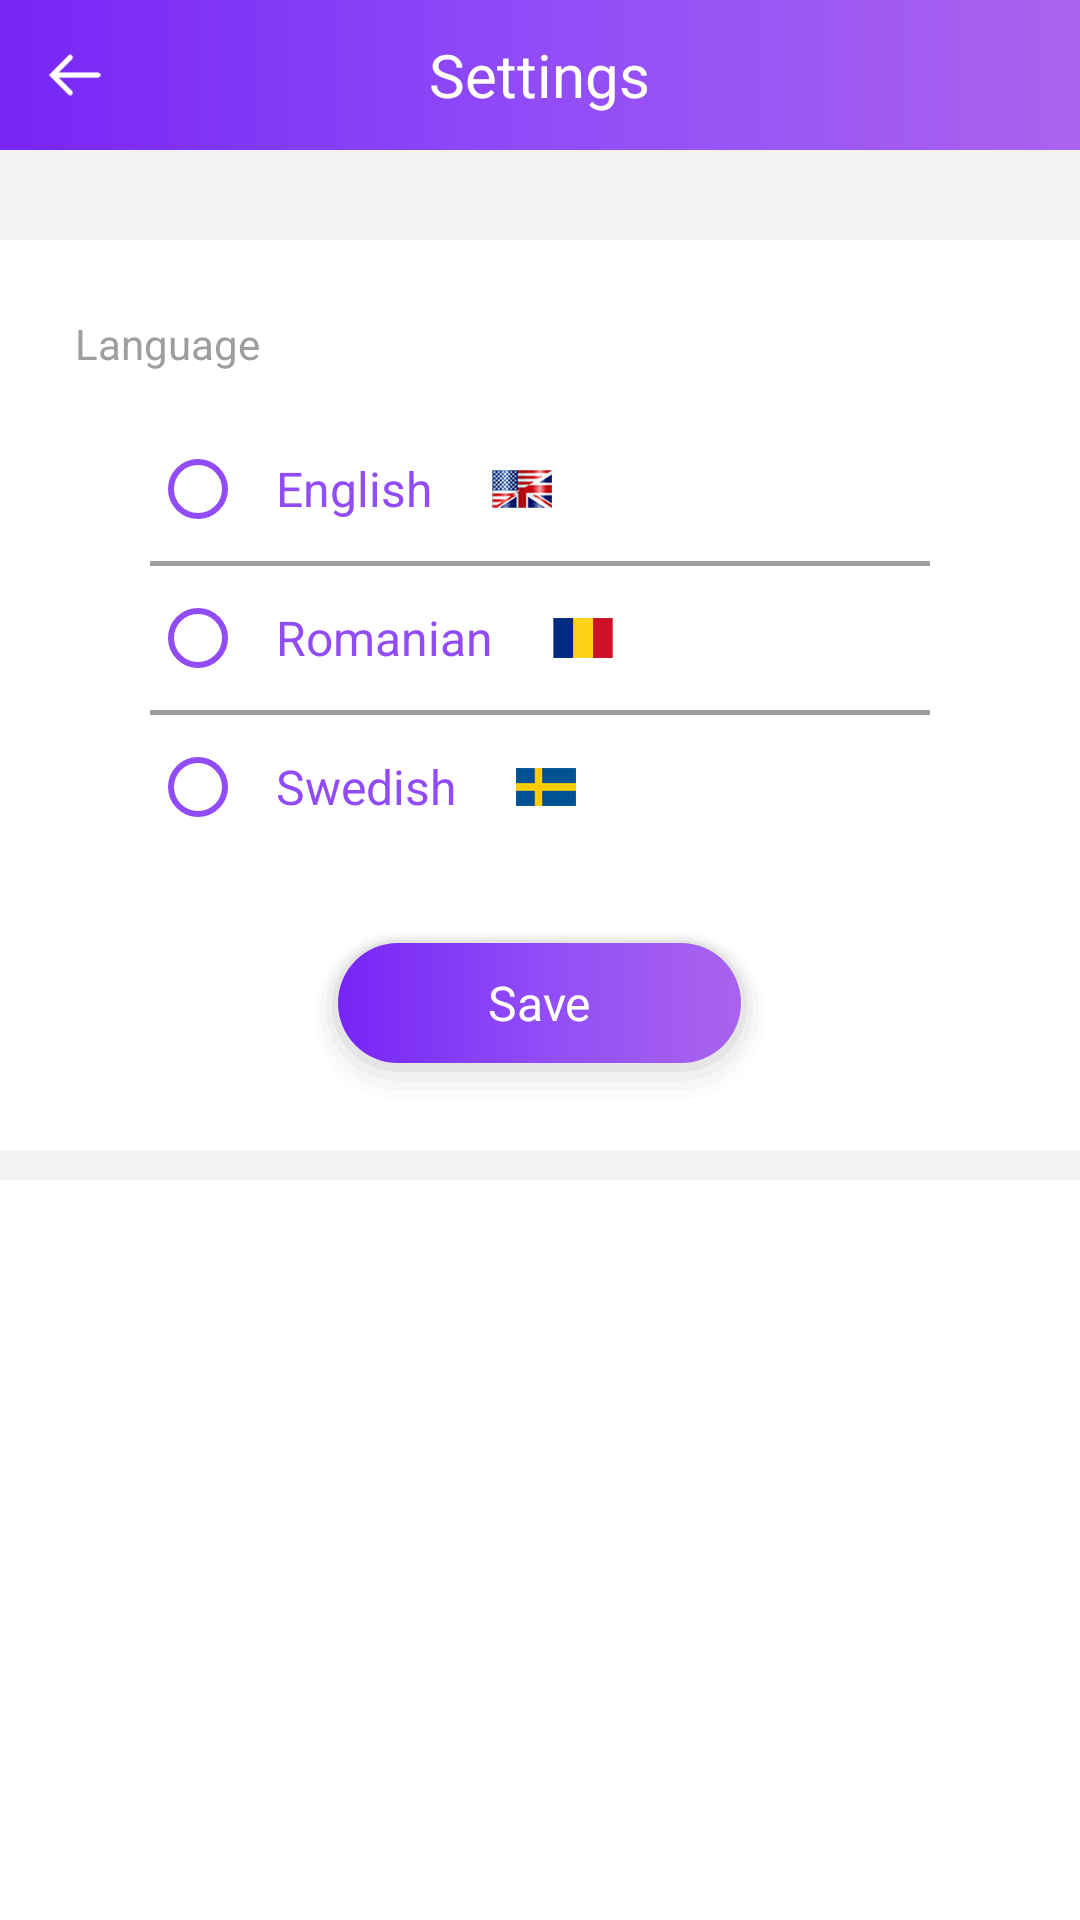

Icons on this 1080 x 1920 Android screen, each with the point to tap as [x,y]:
leftarrow: [75,75]
